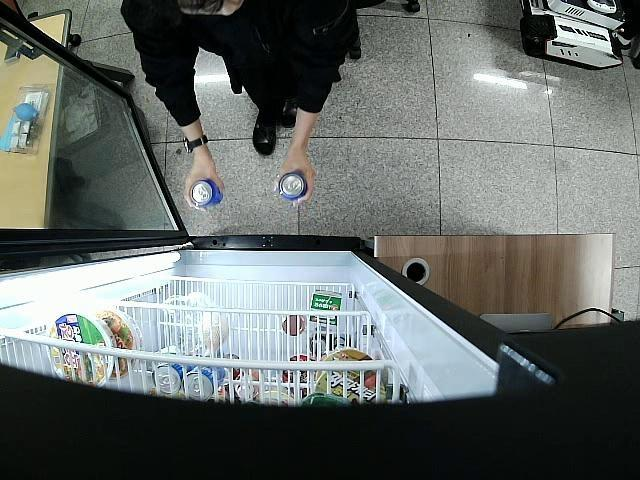13_pocariSweat: (191, 178, 225, 206), (278, 171, 306, 200)
